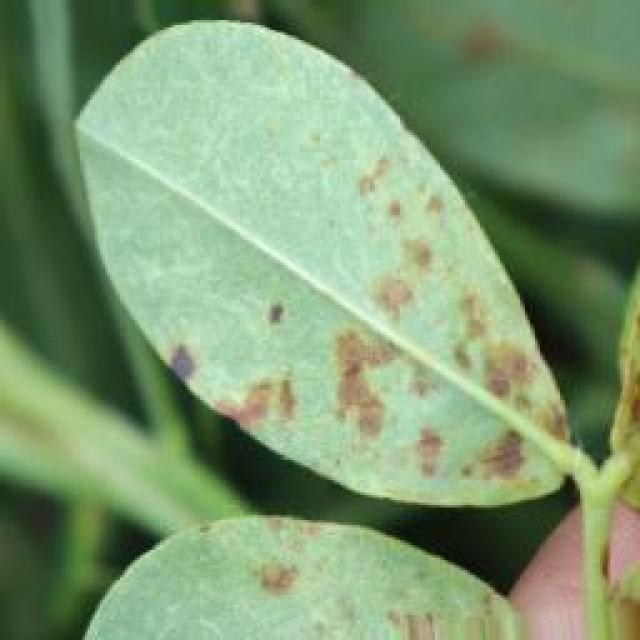Whitefly: (40, 115, 640, 640)
